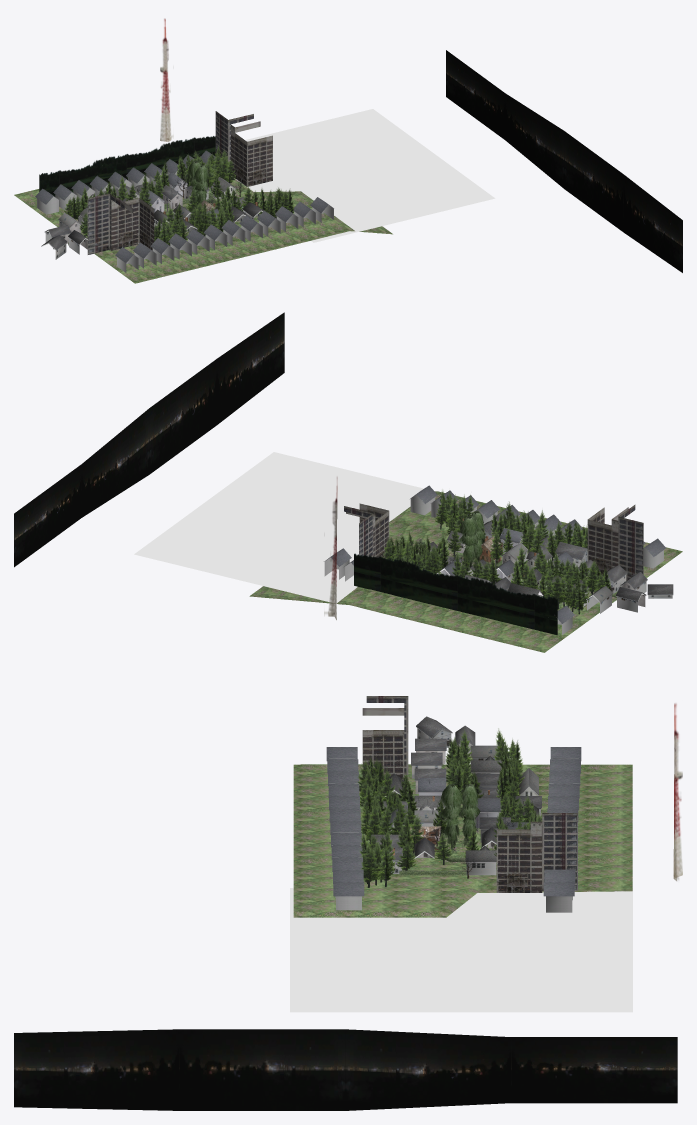
Rendered from swing.glb.
The picture shows the model from 3 angles, top to bottom: view 1: azimuth 30°, elevation 25°; view 2: azimuth 150°, elevation 25°; view 3: azimuth 270°, elevation 25°; orthographic projection. The views are drawn at different scales.
Parts seen in each view (by area): view 1: water, the_city, house_dist, illinois, ground_layer_002, trees, house, treeline, radio_tower_001, tree; view 2: water, the_city, trees, ground_layer_002, treeline, house, illinois, house_dist, tree, radio_tower_001; view 3: the_city, water, ground_layer_002, trees, house, house_dist, illinois, tree, radio_tower_001.
Boxes of the visible parts, x1,y1,x2,y2 form: water: (234, 109, 495, 242); the_city: (446, 50, 682, 272); house_dist: (35, 150, 333, 272); illinois: (87, 111, 272, 254); ground_layer_002: (14, 178, 392, 283); trees: (63, 145, 294, 245); house: (41, 172, 263, 259); treeline: (39, 136, 215, 196); radio_tower_001: (160, 18, 173, 141); tree: (187, 160, 208, 207); water: (134, 452, 423, 604); the_city: (14, 312, 284, 567); trees: (382, 490, 610, 614); ground_layer_002: (250, 491, 682, 652); treeline: (354, 553, 557, 635); house: (418, 518, 673, 613); illinois: (344, 503, 643, 580); house_dist: (324, 485, 665, 634); tree: (459, 510, 485, 566); radio_tower_001: (324, 477, 337, 620); the_city: (14, 1029, 677, 1110); water: (290, 888, 632, 1012); ground_layer_002: (293, 764, 632, 917); trees: (356, 728, 542, 887); house: (371, 716, 541, 875); house_dist: (326, 747, 581, 912); illinois: (362, 696, 577, 892); tree: (440, 783, 480, 849); radio_tower_001: (673, 703, 682, 880).
Size of the model in its own units: 460 by 138 by 388.
33 materials, 32 textured.
